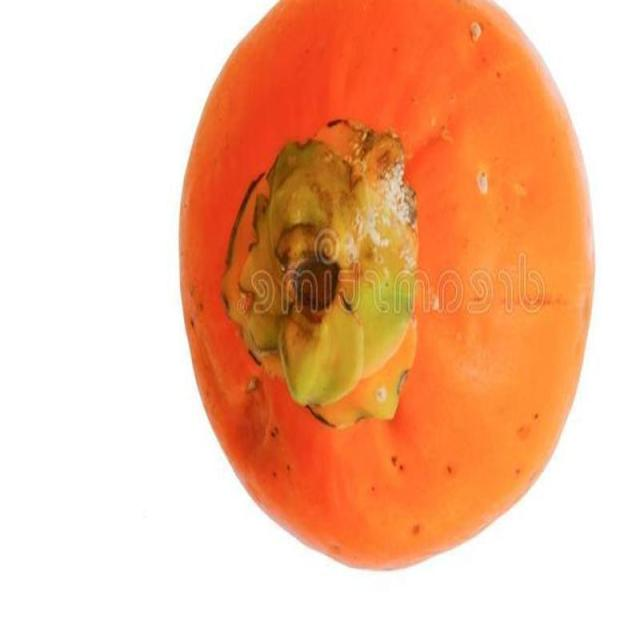good: (182, 0, 597, 574)
